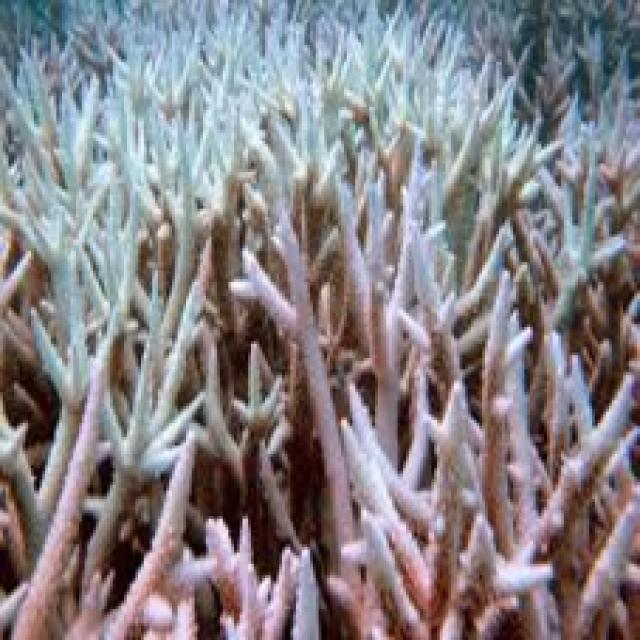Bleached: (3, 1, 526, 224), (41, 85, 154, 403), (533, 90, 640, 290)
Healthy: (1, 398, 640, 640), (250, 207, 548, 640), (510, 341, 637, 472)
